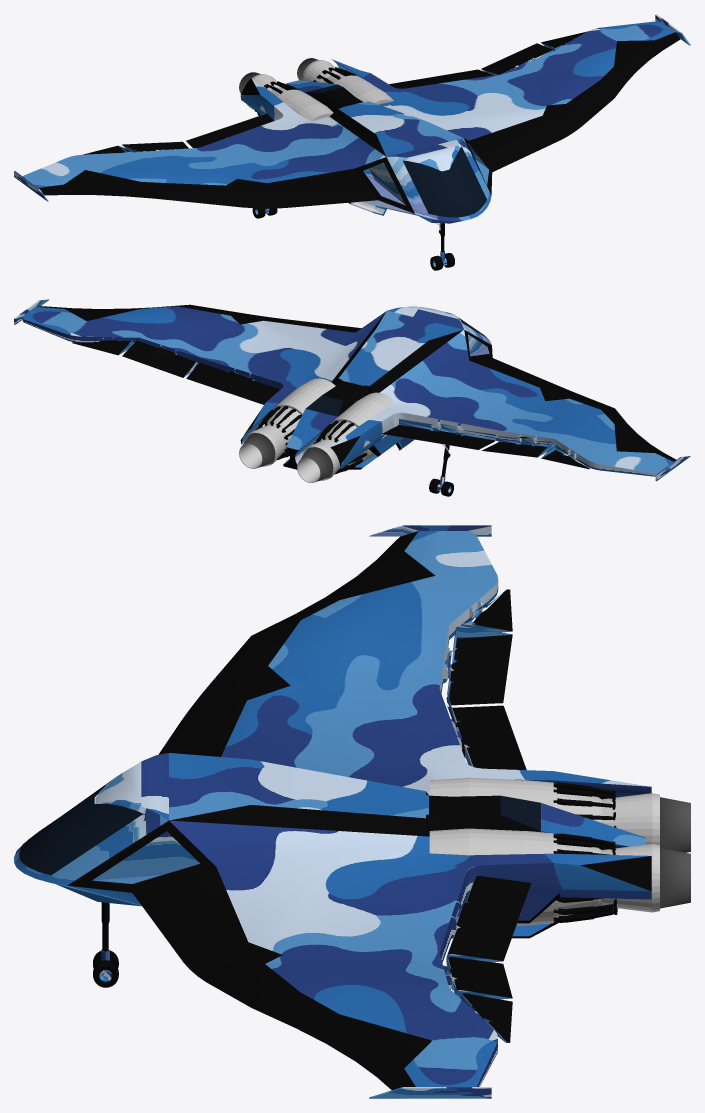
The model's file is uploads_files_3067464_Jet+fbx.fbx.
3 renders of one model, top to bottom at view 1: azimuth 30°, elevation 25°; view 2: azimuth 150°, elevation 25°; view 3: azimuth 270°, elevation 25°, orthographic. The views are drawn at different scales.
Visible parts, largest first — view 1: Cabin, Engine 1, Engine 2, Wheel 1; view 2: Cabin, Engine 1, Engine 2, Hydrolic 1, Hydrolic 2, Wheel 1.001; view 3: Cabin, Engine 1, Engine 2, Hydrolic 1, Wheel 1, Hydrolic 2.
Part boxes in pixels (x1,y1,x2,y2): Cabin: [14, 14, 690, 223]; Engine 1: [297, 58, 393, 104]; Engine 2: [239, 72, 333, 121]; Wheel 1: [430, 223, 454, 270]; Cabin: [14, 299, 690, 481]; Engine 1: [239, 378, 335, 468]; Engine 2: [297, 392, 393, 482]; Hydrolic 1: [255, 406, 301, 459]; Hydrolic 2: [313, 420, 367, 474]; Wheel 1.001: [429, 444, 453, 496]; Cabin: [14, 525, 651, 1098]; Engine 1: [429, 828, 690, 925]; Engine 2: [429, 777, 690, 852]; Hydrolic 1: [553, 833, 617, 922]; Wheel 1: [93, 902, 118, 987]; Hydrolic 2: [553, 782, 616, 827].
Size of the model in its own units: 2820 by 464 by 1433.
